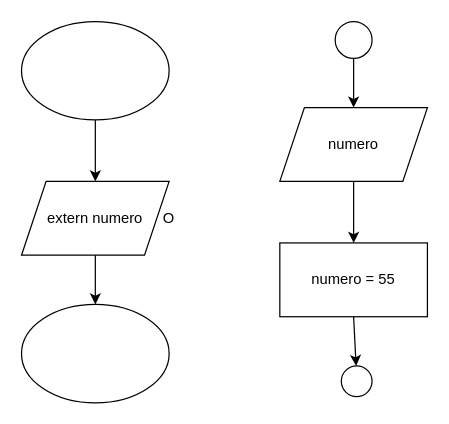
Some shapes in this 449 by 424 pixel diagram are drawn without their labels. The shapes that lost their labels are listed below. From the top down, each one's box as (x1, y1, x2, y2) in pixels, then its label:
(20, 20, 169, 120): INIZIO
(20, 303, 169, 403): FINE
